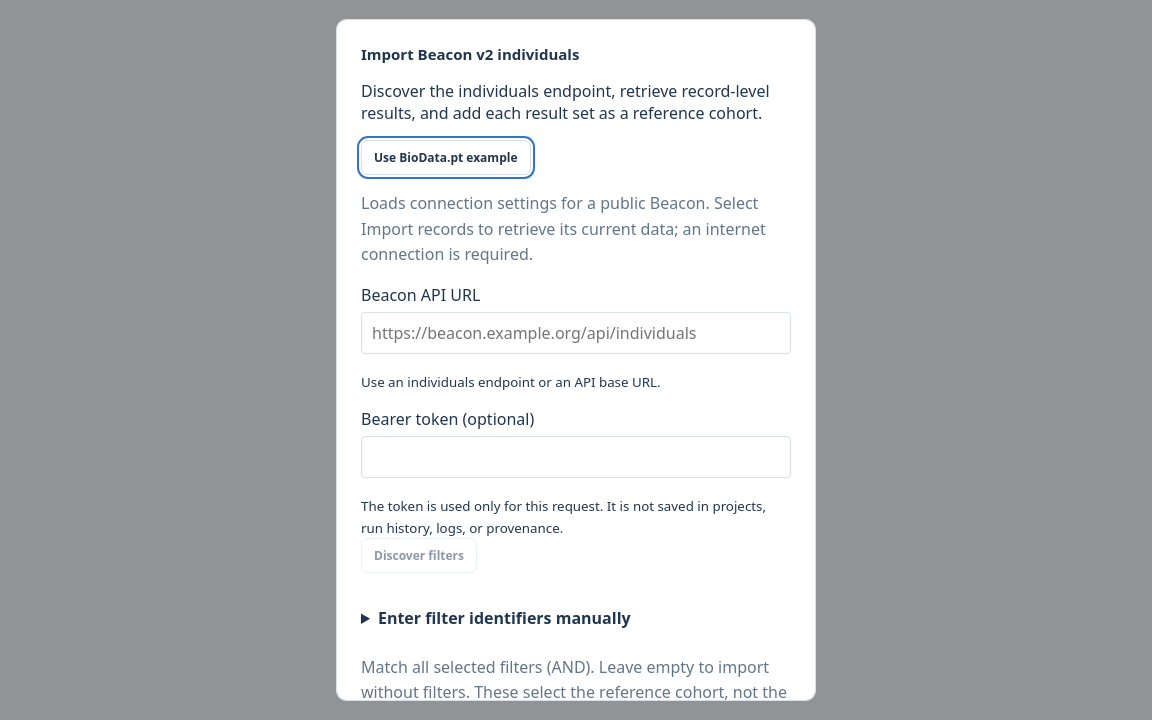
Scenario: Beacon import › retains manual entry when discovery fails
This screenshot has width=1152, height=720.
Type "https://beacon.example/api" into the field labelled "Beacon API URL".
click(576, 333); type("https://beacon.example/api")  # box top-left (361, 312), bottom-right (791, 354)
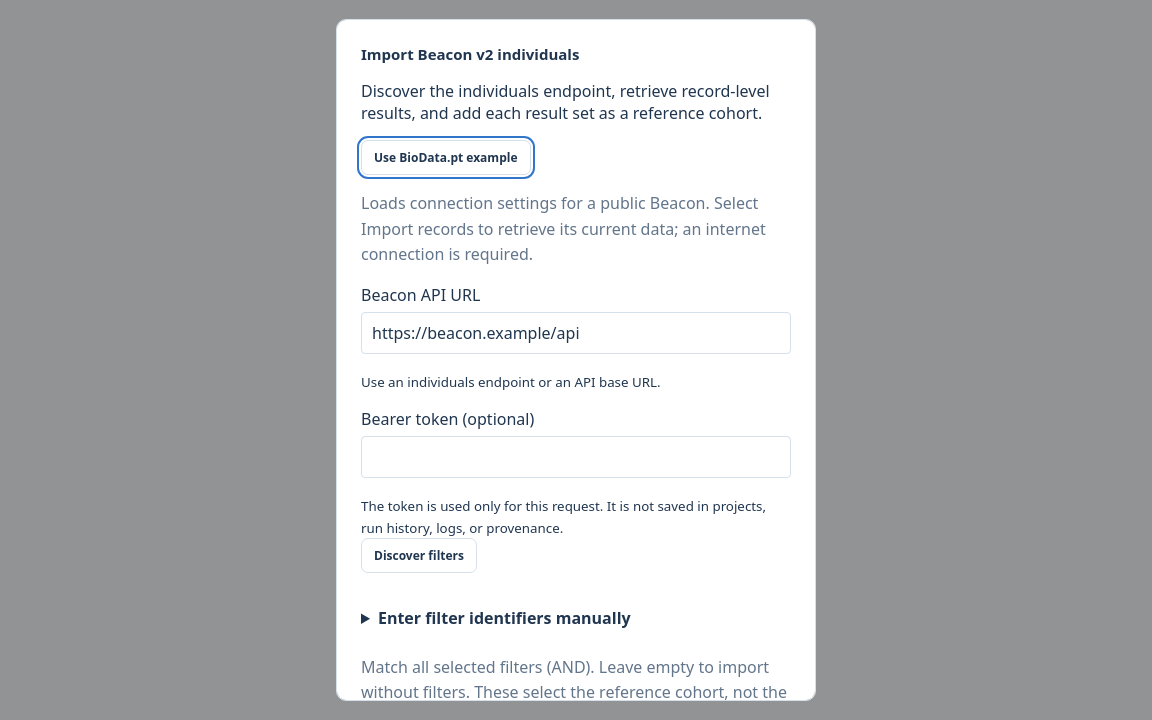
Click the button "Discover filters".
click(419, 555)  # box top-left (361, 538), bottom-right (477, 573)
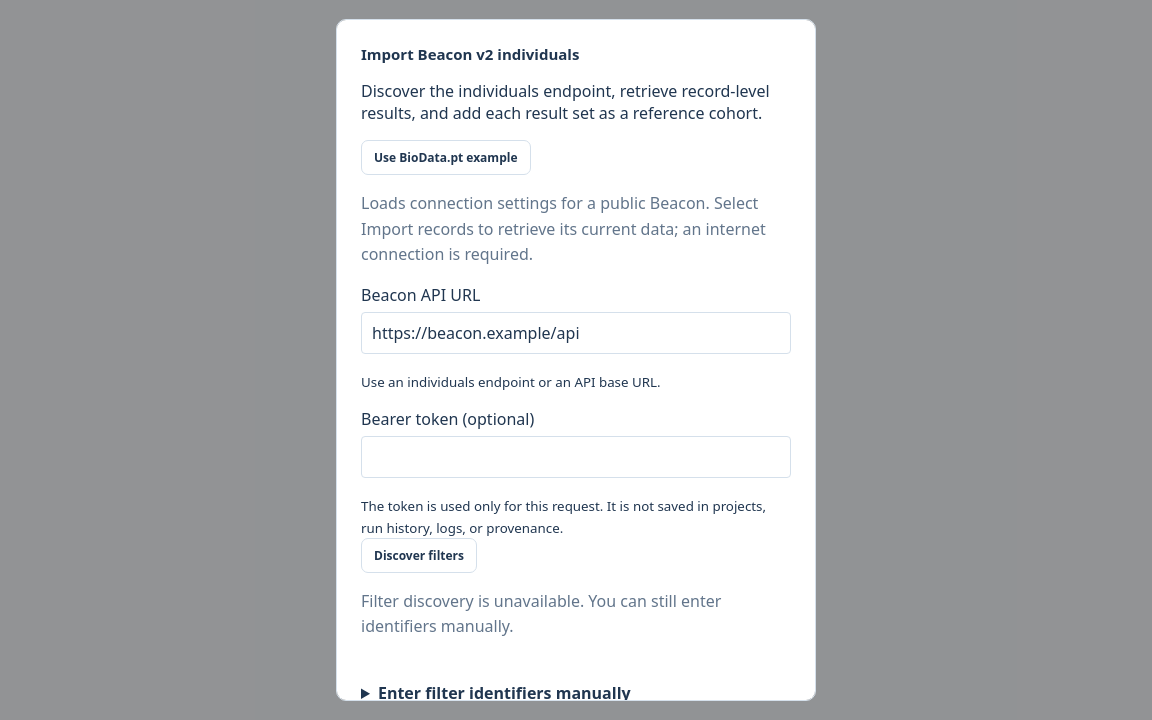
expect the message shows "enter identifiers manually": met, box top-left (361, 590), bottom-right (721, 637)
